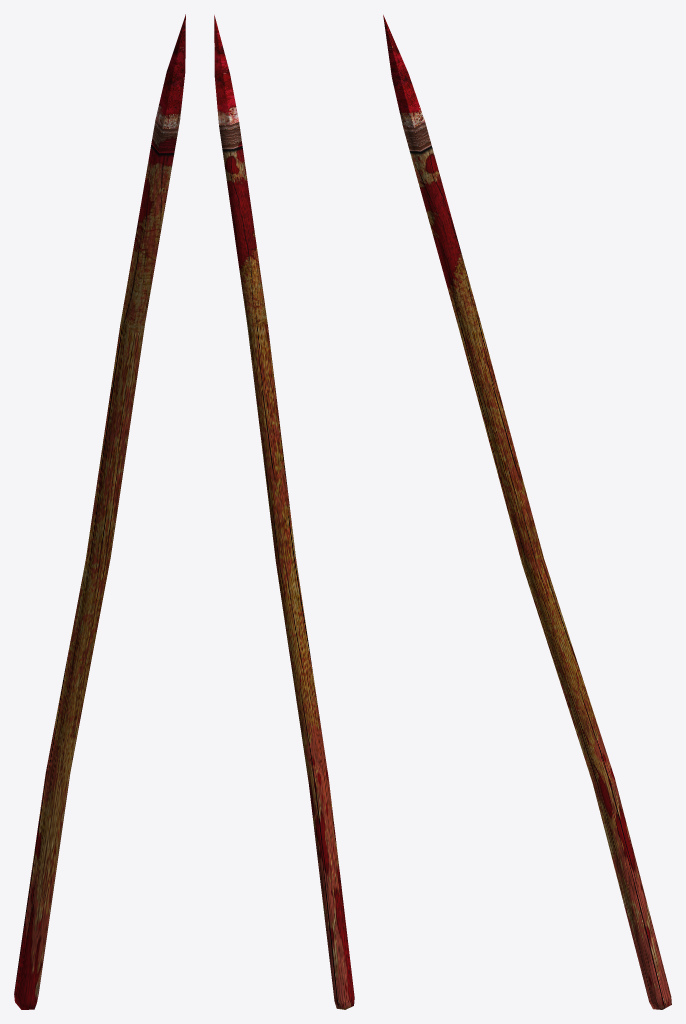
File: Spike.fbx
3 views of the same model, side by side, from view 1: azimuth 30°, elevation 25°; view 2: azimuth 210°, elevation 25°; view 3: azimuth 270°, elevation 25° (orthographic). The views are drawn at different scales.
Parts seen in each view (by area): view 1: Spike; view 2: Spike; view 3: Spike.
Boxes of the visible parts, x1=… form: Spike: x1=14, y1=14, x2=185, y2=1009; Spike: x1=214, y1=15, x2=354, y2=1009; Spike: x1=383, y1=15, x2=671, y2=1009.
Size of the model in its own units: 0.0531 by 2.18 by 0.5713.
